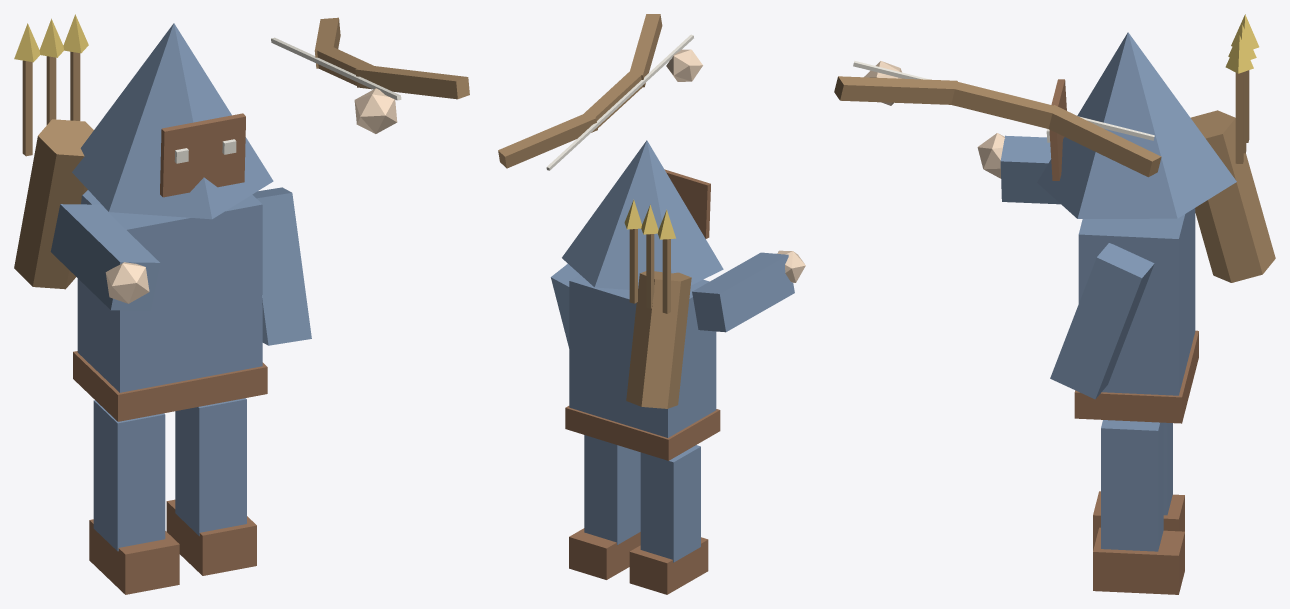
Rendered from npcpose_archer_attack_06.glb.
3 views of the same model, side by side, from view 1: azimuth 30°, elevation 25°; view 2: azimuth 150°, elevation 25°; view 3: azimuth 270°, elevation 25° (orthographic). The views are drawn at different scales.
Parts seen in each view (by area): view 1: npcpose; view 2: npcpose; view 3: npcpose.
Boxes of the visible parts, x1,y1,x2,y2 form: npcpose: [14, 14, 469, 594]; npcpose: [498, 14, 805, 594]; npcpose: [834, 14, 1275, 594].
Bounding box in the file's own units: 0.9626 × 1.68 × 1.23.
